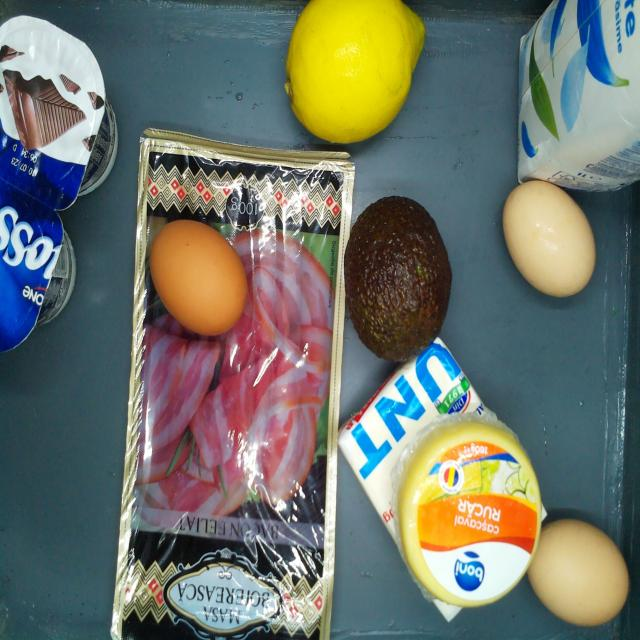avocado: (347, 194, 452, 358)
bacon: (119, 135, 338, 640)
butter: (341, 342, 517, 600)
cheese: (402, 418, 536, 608)
eggs: (149, 220, 244, 338), (502, 180, 596, 296), (538, 517, 630, 627)
lemon: (291, 0, 426, 143)
milk: (516, 0, 640, 182)
yogurt: (0, 17, 121, 209), (0, 201, 69, 344)
